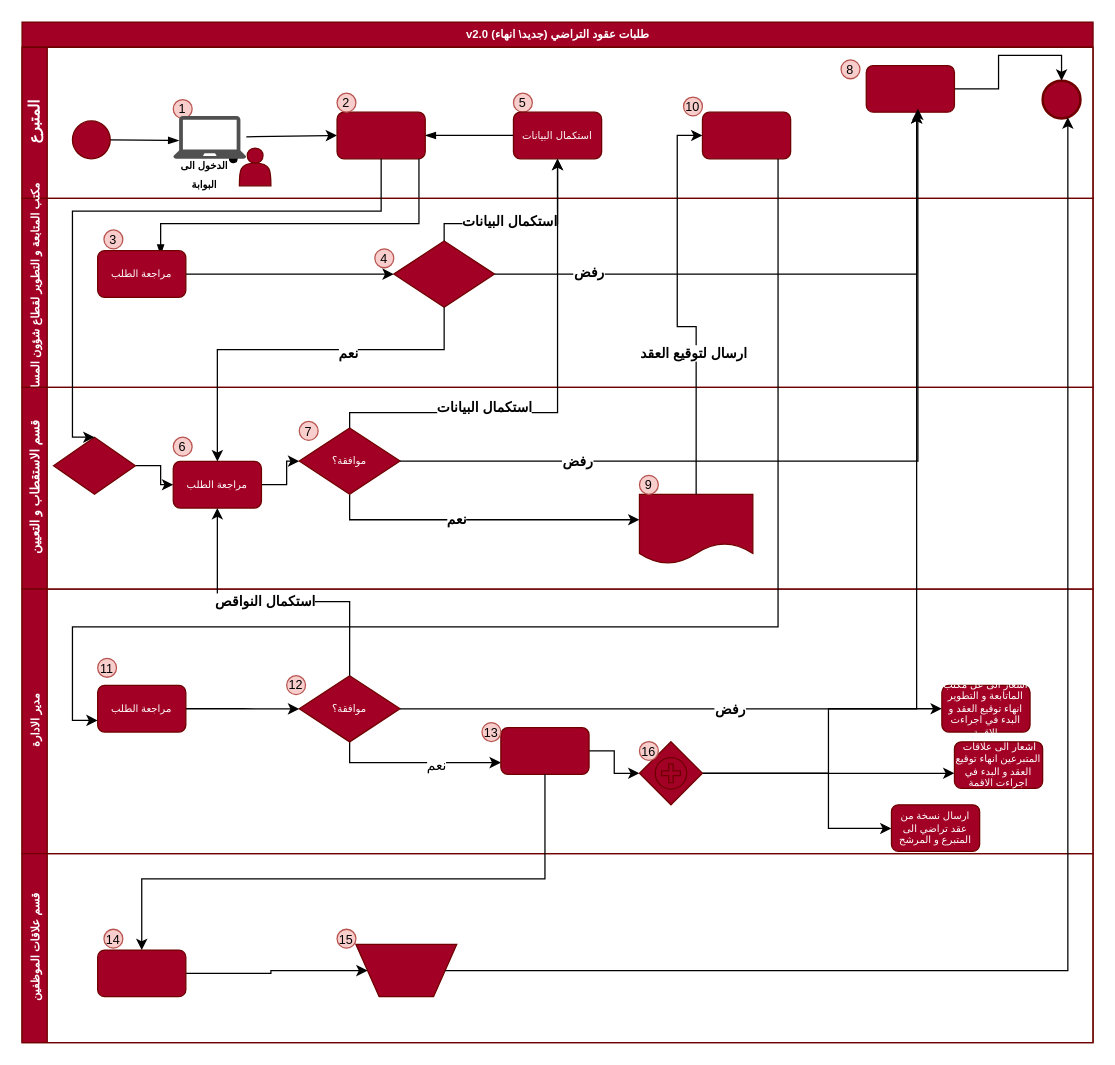
The diagram is 1115 pixels wide and 1065 high, and some of its shapes have lost their labels. Here are the shapes that lost their labels. From the top down, the centre of each, then its label:
At [909,88]: "ارسال رسالة اعتذار للمتبرع".
At [1061,99]: "اغلاق".
At [90,139]: "بداية".
At [380,135]: "تعبئة و نموذج طلب عقد تراضي".
At [746,135]: "توقيع المتبرع و المرشح".
At [443,273]: "موافقة".
At [93,465]: "اعادة ارسال من المتبرع".
At [695,528]: "تجهيز عقد التراضي من النظام جديد او انهاء".
At [544,750]: "توقيع مدير الادارة على العقد".
At [141,973]: "استلام الطلب".
At [406,970]: "بدء بتجديد الاقامة".
